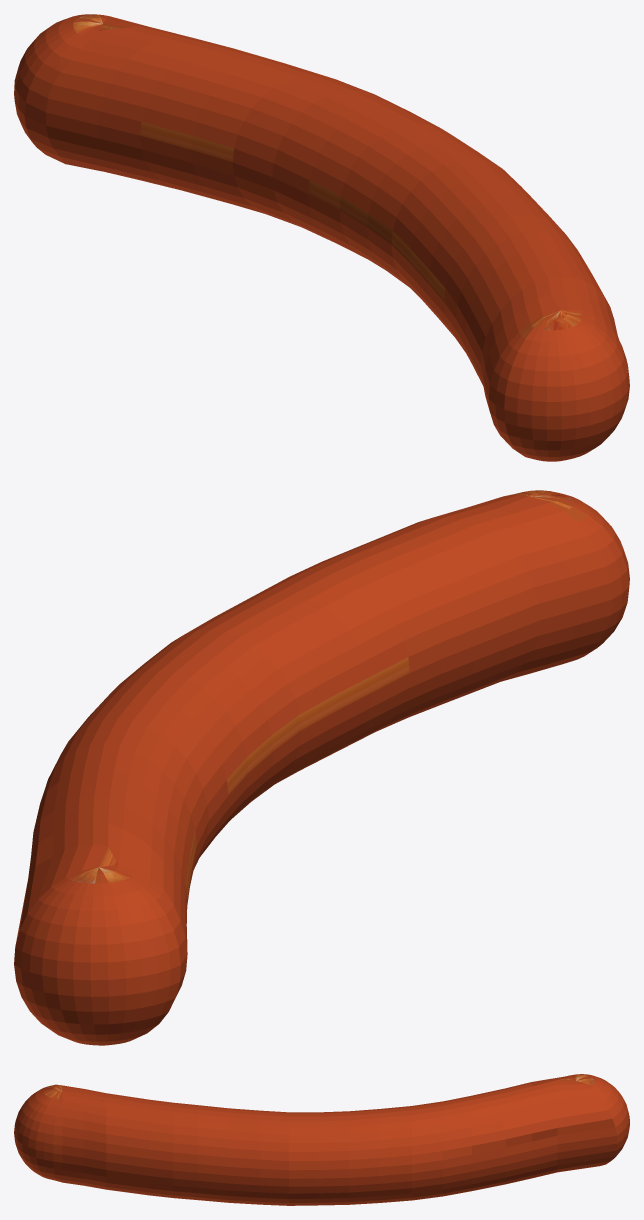
File: salchicha.glb
3 renders of one model, top to bottom at view 1: azimuth 30°, elevation 25°; view 2: azimuth 150°, elevation 25°; view 3: azimuth 270°, elevation 25°, orthographic. The views are drawn at different scales.
Parts seen in each view (by area): view 1: Sphere; view 2: Sphere; view 3: Sphere.
Part boxes in pixels (x1,y1,x2,y2): Sphere: (14,14,629,461); Sphere: (14,490,629,1045); Sphere: (14,1074,629,1205).
Size of the model in its own units: 3.86 by 2.06 by 12.66.
1 material, 1 textured.
